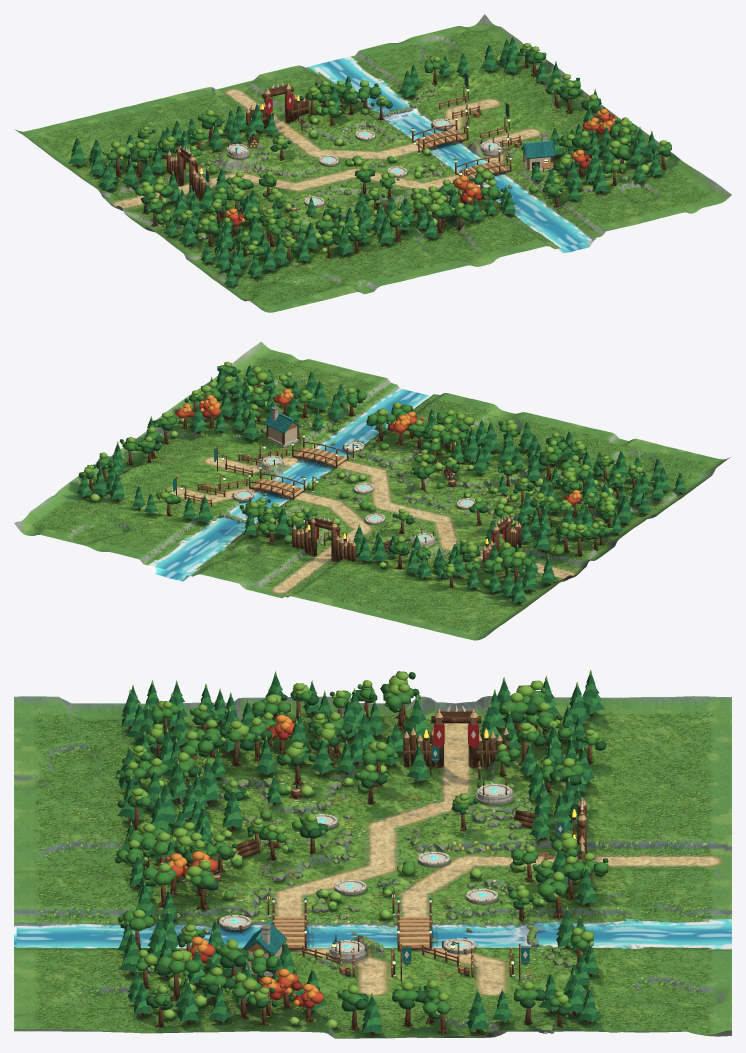
File: battlefield-forest-expanded.glb
3 renders of one model, top to bottom at view 1: azimuth 30°, elevation 25°; view 2: azimuth 150°, elevation 25°; view 3: azimuth 270°, elevation 25°, orthographic. The views are drawn at different scales.
Visible parts, largest first — view 1: Terrain / forest / rt, Water / river with flow streaks.001, Raider camp gate.001, Raider camp gate, Village forge house, Bridge / row 235, Bridge / row 430; view 2: Terrain / forest / rt, Water / river with flow streaks.001, Raider camp gate.001, Village forge house, Raider camp gate, Bridge / row 235, Bridge / row 430; view 3: Terrain / forest / rt, Water / river with flow streaks.001, Raider camp gate, Bridge / row 235, Tree / broadleaf 22.023, Village forge house, Bridge / row 430, Tree / broadleaf 22.040, Tree / broadleaf 22.014, Tree / broadleaf 24.035, Tree / broadleaf 21.038, Tree / broadleaf 23.016 (+24 smaller).
Boxes of the visible parts, x1,y1,x2,y2 form: Terrain / forest / rt: [14, 14, 731, 312]; Water / river with flow streaks.001: [308, 56, 596, 249]; Raider camp gate.001: [246, 82, 310, 128]; Raider camp gate: [167, 145, 205, 200]; Village forge house: [521, 132, 554, 171]; Bridge / row 235: [411, 117, 468, 149]; Bridge / row 430: [454, 148, 511, 180]; Terrain / forest / rt: [14, 341, 730, 640]; Water / river with flow streaks.001: [149, 388, 430, 575]; Raider camp gate.001: [292, 515, 356, 561]; Village forge house: [264, 406, 301, 447]; Raider camp gate: [481, 515, 521, 567]; Bridge / row 235: [248, 466, 305, 499]; Bridge / row 430: [291, 434, 348, 467]; Terrain / forest / rt: [14, 696, 731, 1038]; Water / river with flow streaks.001: [16, 919, 731, 948]; Raider camp gate: [403, 704, 508, 769]; Bridge / row 235: [397, 898, 432, 950]; Tree / broadleaf 22.023: [153, 949, 200, 1001]; Village forge house: [242, 921, 286, 976]; Bridge / row 430: [272, 898, 307, 950]; Tree / broadleaf 22.040: [185, 860, 218, 911]; Tree / broadleaf 22.014: [383, 684, 420, 730]; Tree / broadleaf 24.035: [220, 720, 255, 766]; Tree / broadleaf 21.038: [537, 871, 567, 919]; Tree / broadleaf 23.016: [499, 692, 537, 742].
Bounding box in the file's own units: 14.2 × 1.51 × 12.93.
38 materials, 25 textured.
